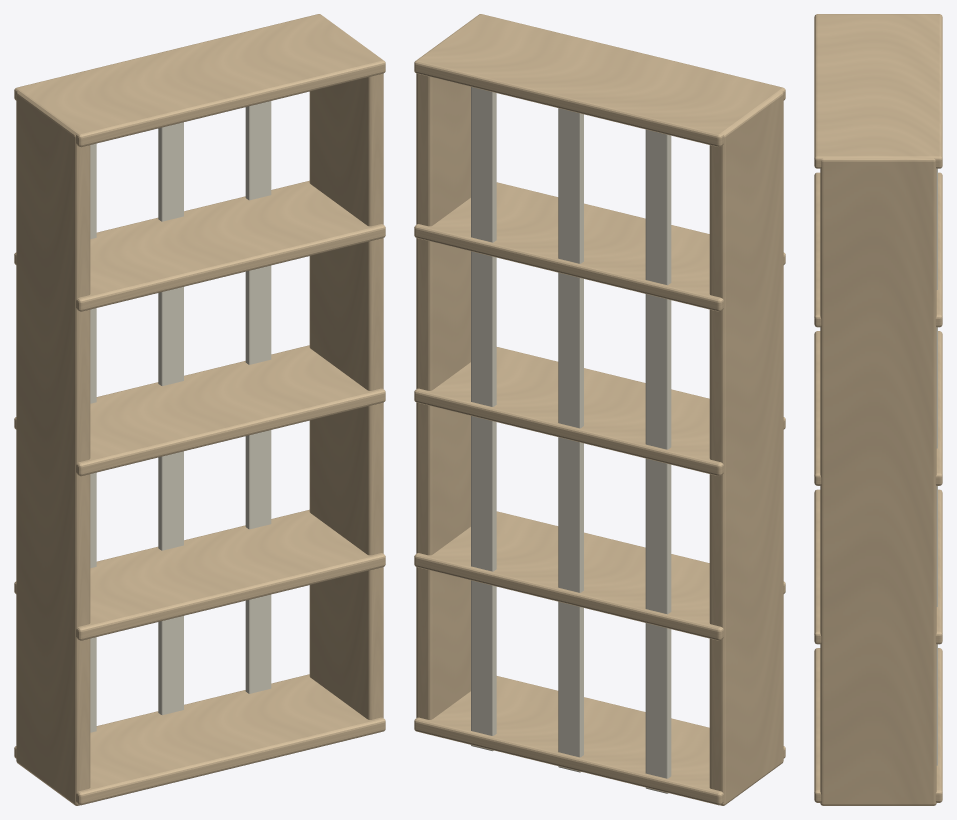
Rendered from bookshelf-2.glb.
3 views of the same model, side by side, from view 1: azimuth 30°, elevation 25°; view 2: azimuth 150°, elevation 25°; view 3: azimuth 270°, elevation 25° (orthographic). The views are drawn at different scales.
Visible parts, largest first — view 1: Upright, Upright.001, Shelf.004, Shelf.001, Shelf, Shelf.003, Shelf.002, Slatted back.002, Slatted back.001, Slatted back; view 2: Upright, Upright.001, Shelf.004, Slatted back, Slatted back.001, Slatted back.002, Shelf.001, Shelf.003, Shelf, Shelf.002; view 3: Upright.001, Shelf.004, Shelf.003, Shelf.001, Shelf, Shelf.002, Slatted back.002.
Part boxes in pixels (x1,y1,x2,y2): Upright: (16, 92, 90, 805); Upright.001: (309, 73, 383, 719); Shelf.004: (14, 14, 385, 147); Shelf.001: (14, 509, 385, 640); Shelf: (14, 674, 385, 805); Shelf.003: (14, 180, 385, 311); Shelf.002: (14, 345, 385, 476); Slatted back.002: (245, 101, 271, 693); Slatted back.001: (158, 122, 183, 715); Slatted back: (90, 143, 96, 732); Upright: (709, 92, 783, 805); Upright.001: (416, 73, 470, 719); Shelf.004: (414, 14, 785, 147); Slatted back: (645, 129, 671, 793); Slatted back.001: (558, 108, 583, 772); Slatted back.002: (471, 87, 496, 751); Shelf.001: (414, 511, 785, 640); Shelf.003: (414, 182, 785, 311); Shelf: (414, 676, 785, 805); Shelf.002: (414, 347, 785, 476); Upright.001: (820, 158, 936, 805); Shelf.004: (814, 14, 942, 168); Shelf.003: (814, 172, 942, 327); Shelf.001: (814, 489, 942, 644); Shelf: (814, 648, 942, 802); Shelf.002: (814, 331, 942, 485); Slatted back.002: (936, 168, 937, 765).
Size of the model in its own units: 0.885 by 1.84 by 0.33.
Materials: 2 (1 with a texture image).
